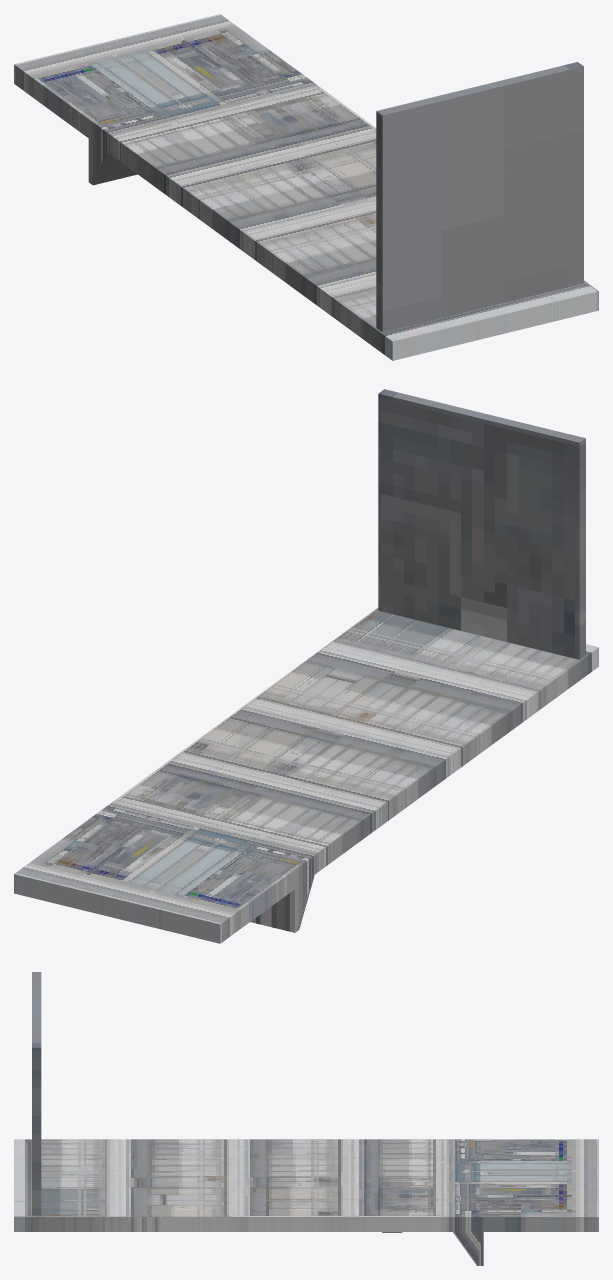
Rendered from 220_highriserWall.gltf.
3 renders of one model, top to bottom at view 1: azimuth 30°, elevation 25°; view 2: azimuth 150°, elevation 25°; view 3: azimuth 270°, elevation 25°, orthographic. The views are drawn at different scales.
Parts seen in each view (by area): view 1: highriserWall; view 2: highriserWall; view 3: highriserWall.
Boxes of the visible parts, bbox=[...] form: highriserWall: bbox=[14, 14, 598, 360]; highriserWall: bbox=[14, 389, 598, 943]; highriserWall: bbox=[14, 972, 598, 1265].
Size of the model in its own units: 4.09 by 5.32 by 13.01.
1 material, 1 textured.
